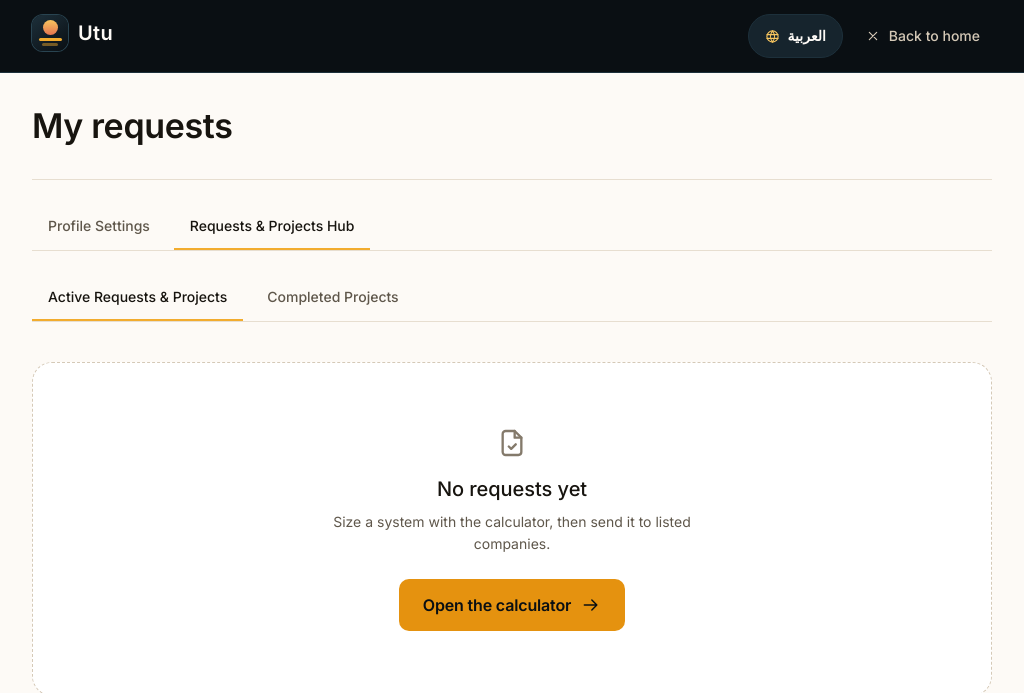
MyRequestsPage review eligibility › lets the authenticated request owner submit a review without a browser request token
The width and height of the screenshot is (1024, 693).
Click the tab "Completed Projects" at [333, 298], box [251, 275, 415, 321]
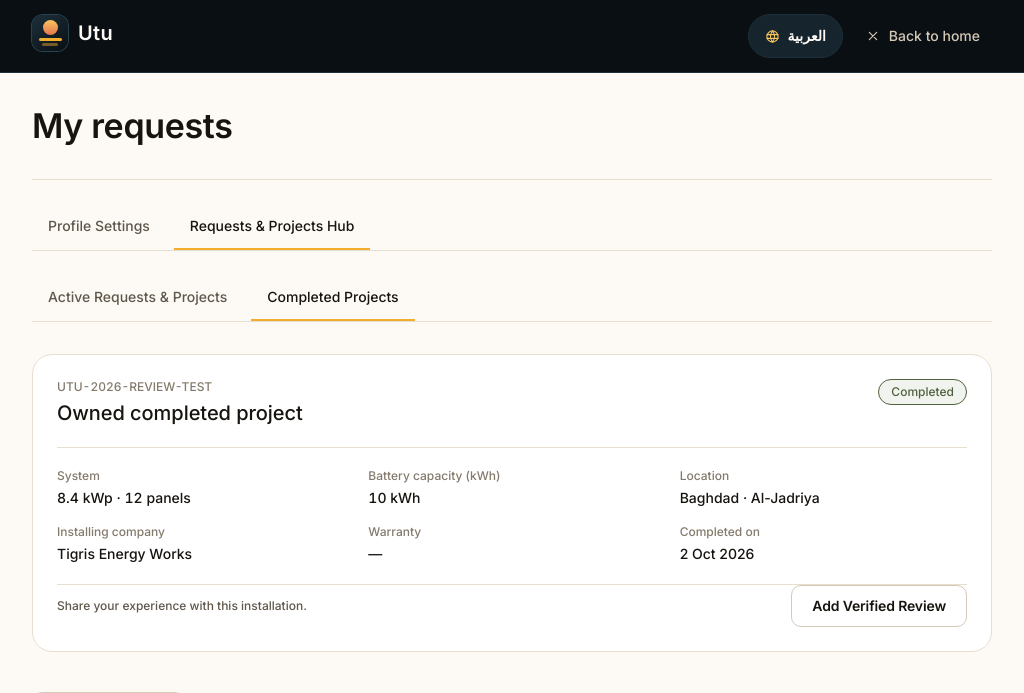
Result: the heading "Owned completed project" is shown at [57, 399, 303, 427]
Click the button "Add Verified Review" at [879, 606], box [791, 585, 967, 627]
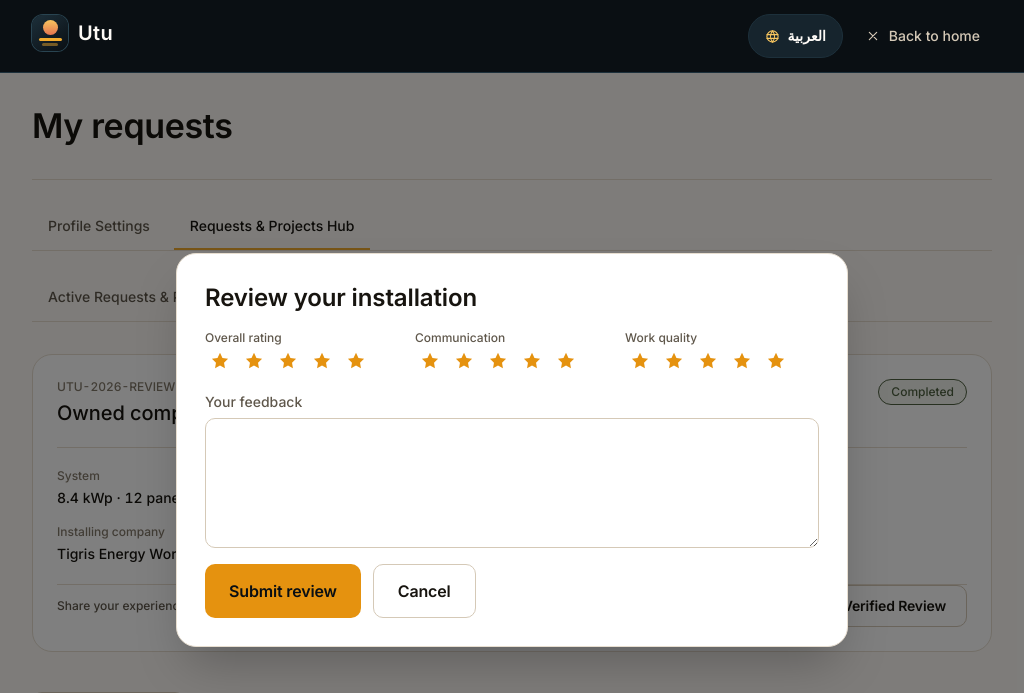
Click the button named "Overall rating: 4 out of 5" at [322, 360], box [307, 346, 337, 376]
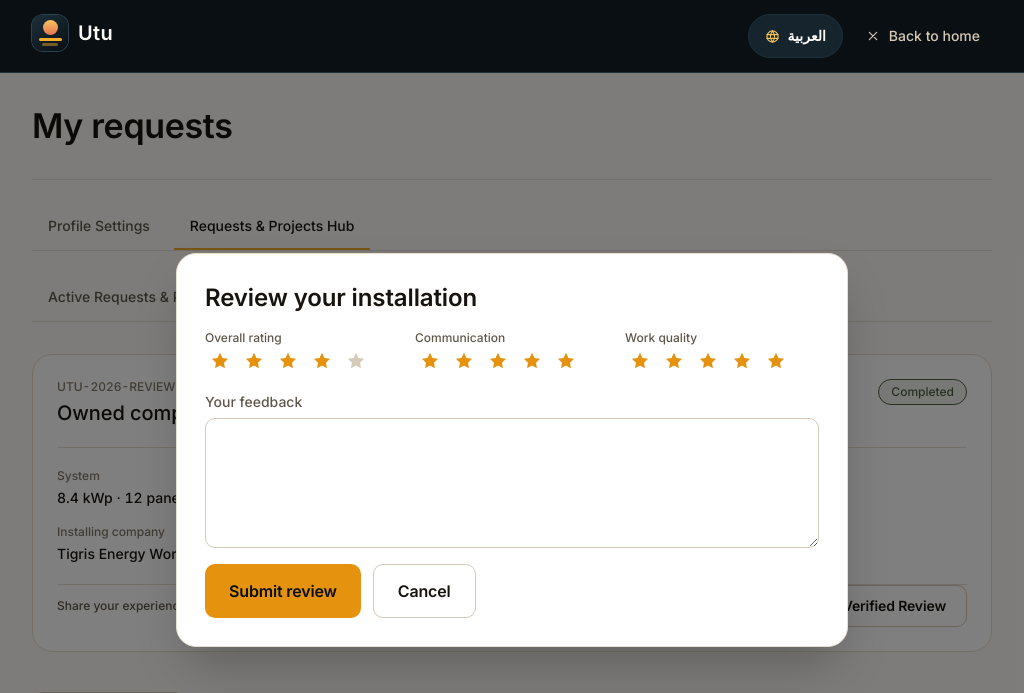
Type "The installer completed the system carefully and on time." into the text box labelled "Your feedback" at [512, 482], box [205, 418, 819, 548]
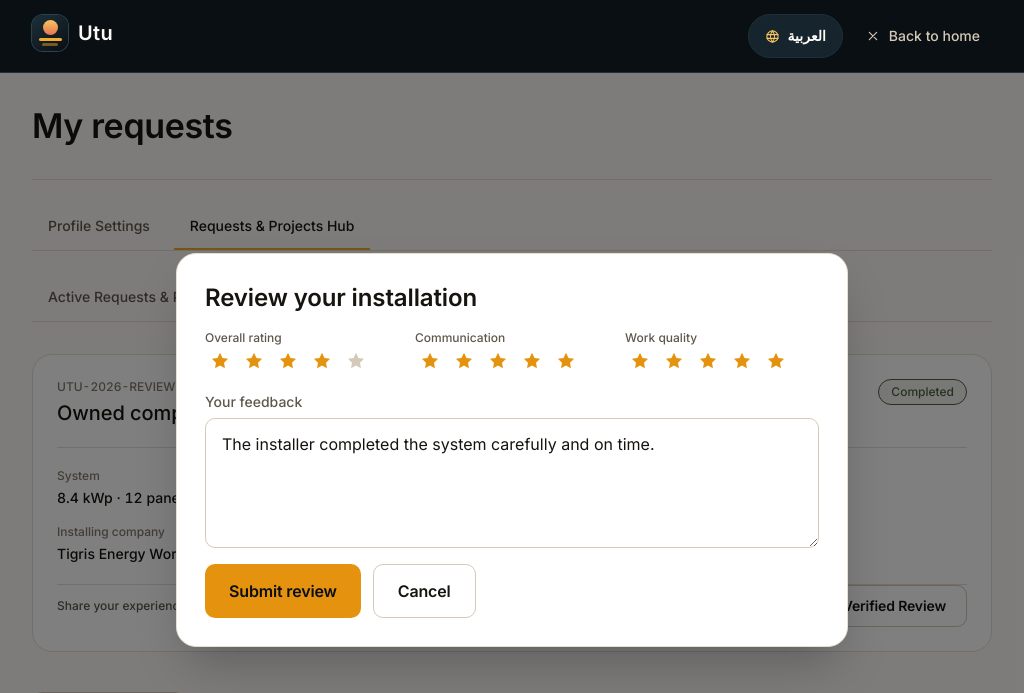
Click the button "Submit review" at [283, 590], box [205, 564, 361, 618]
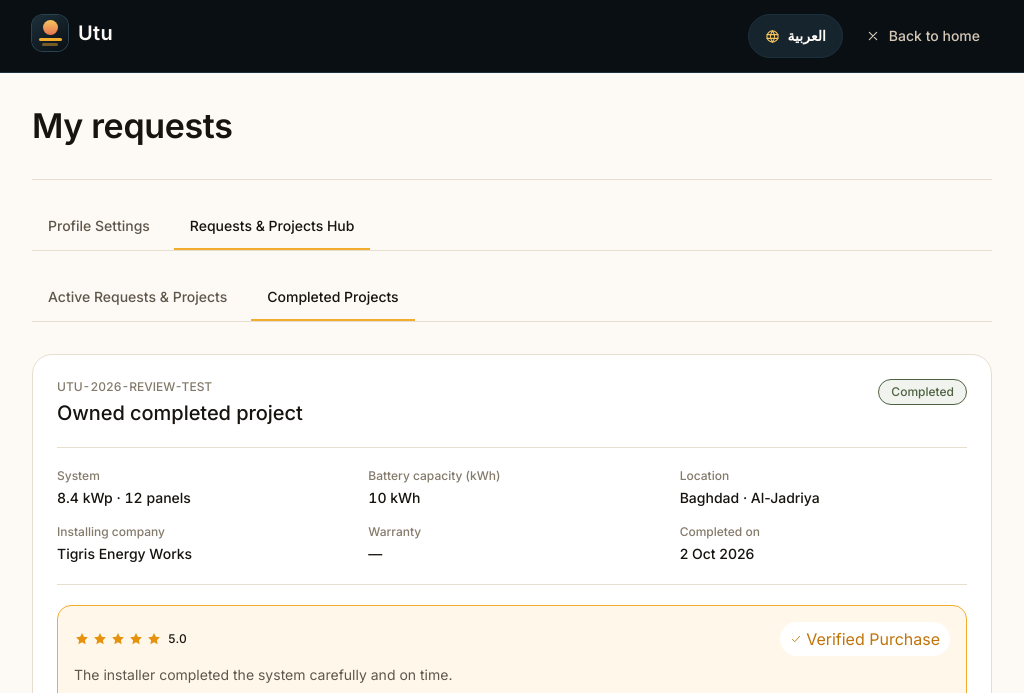
Result: the picture named "Rated 5 out of 5" is shown at [74, 631, 187, 647]
Result: the text "The installer completed the system carefully and on time." is shown at [74, 666, 452, 683]
Result: the text "Verified Purchase" is shown at [780, 622, 950, 656]
